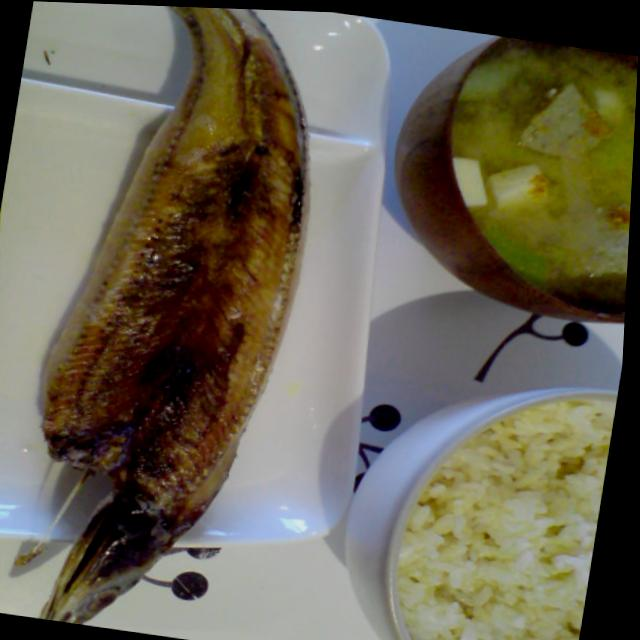熟制海鲜: (2, 1, 353, 640)
